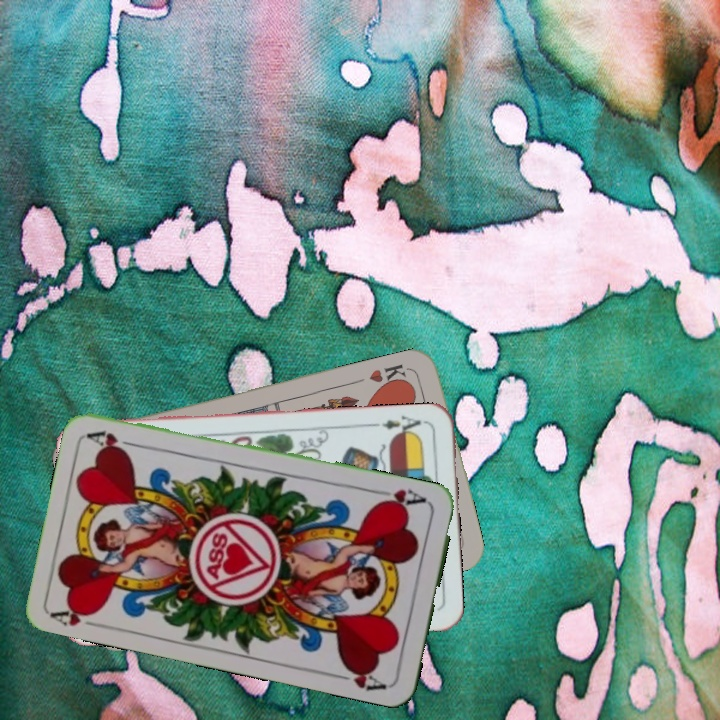EA: (370, 411, 429, 439)
HA: (48, 600, 107, 631), (372, 485, 429, 512)
HK: (365, 360, 415, 392)
